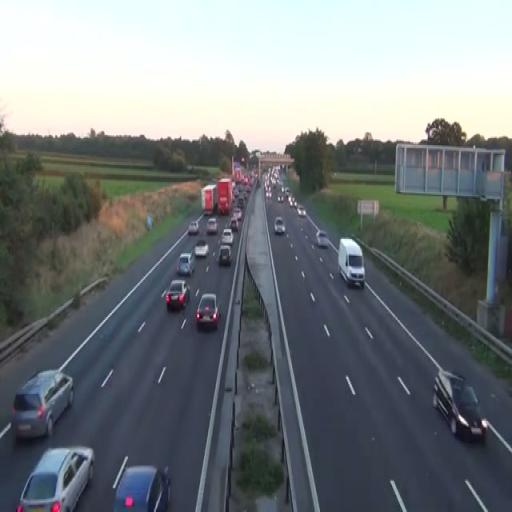Car: (16, 445, 95, 512), (12, 368, 75, 442), (433, 369, 487, 445), (111, 463, 171, 512), (194, 293, 220, 330), (166, 279, 190, 311), (177, 252, 196, 276), (218, 243, 232, 266), (194, 239, 209, 257), (274, 216, 286, 235), (206, 218, 218, 234), (222, 229, 233, 246), (188, 220, 199, 234)
Truck: (337, 237, 365, 288), (217, 179, 233, 214), (200, 184, 218, 214)
